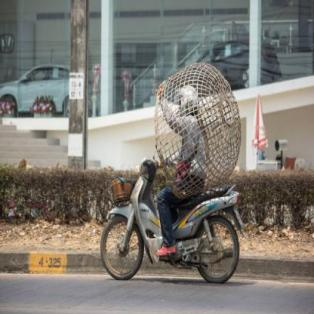Motocicleta: (99, 154, 242, 285)
